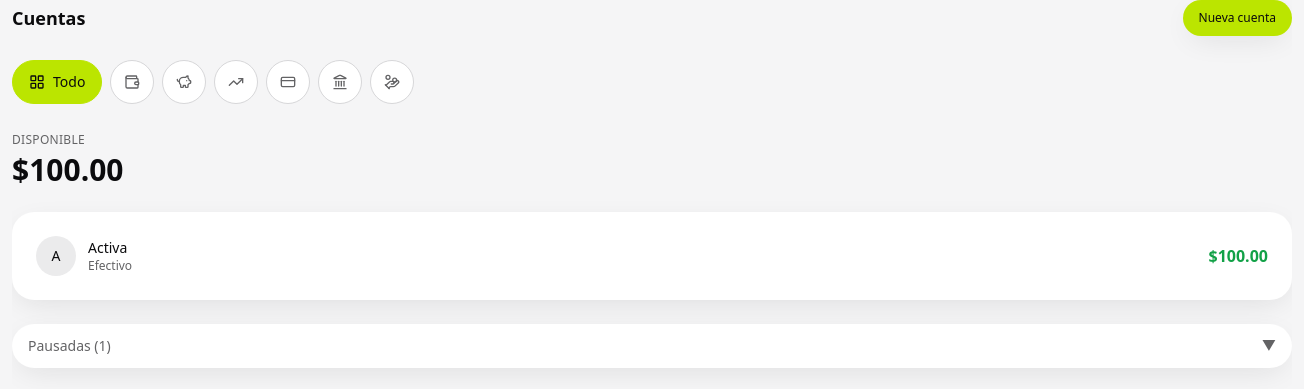
Test: AccountsScreen — Pausadas section (T5.4) › hides the Pausadas section on non-Todo tabs
This screenshot has width=1304, height=389.
What coordinates should you click on to do the following:
click the tab named "Débito"
I would click on:
 (132, 82)
Its box is x1=110 y1=60 x2=154 y2=104.
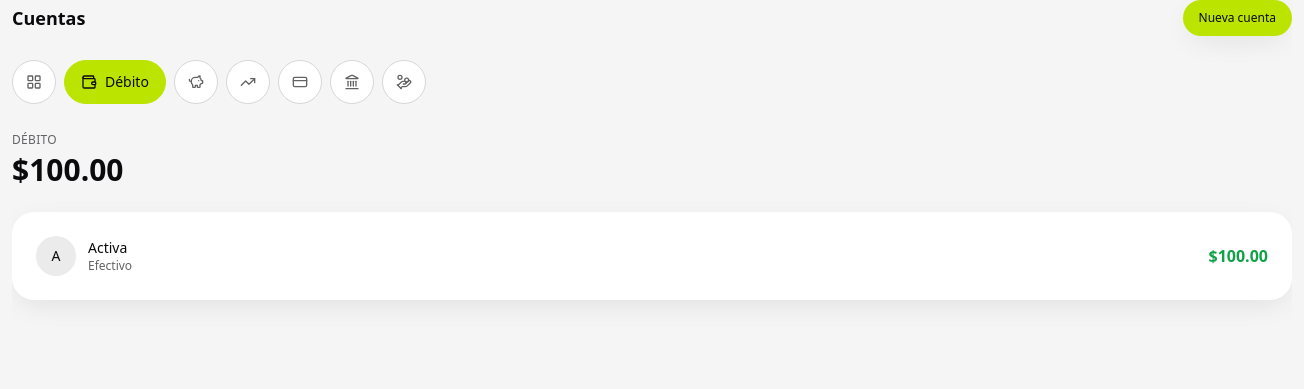
Expected: the button "Pausadas" is gone
